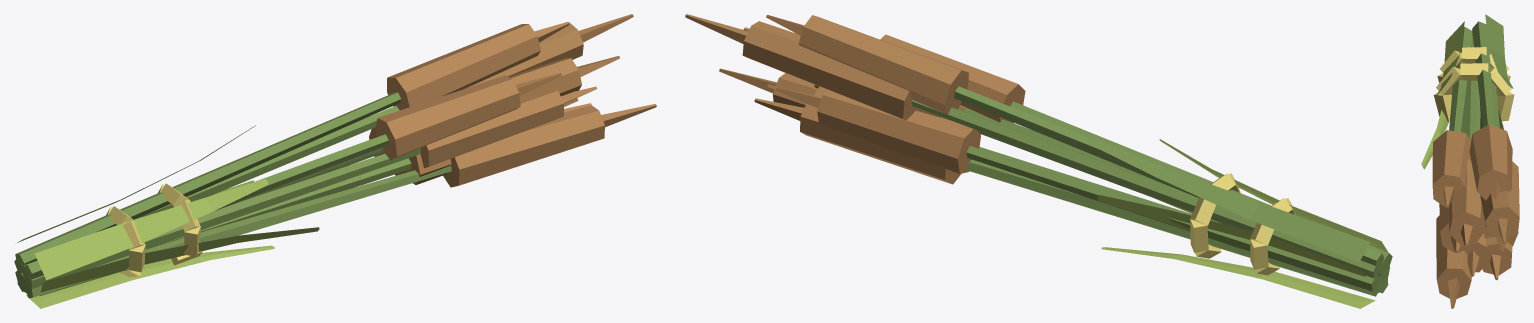
File: cattail_bundle.glb
3 renders of one model, left to right at view 1: azimuth 30°, elevation 25°; view 2: azimuth 150°, elevation 25°; view 3: azimuth 270°, elevation 25°, orthographic. The views are drawn at different scales.
Visible parts, largest first — view 1: cattail_bundle.001; view 2: cattail_bundle.001; view 3: cattail_bundle.001.
Boxes of the visible parts, box(x1,y1,x2,y2) form: cattail_bundle.001: box(14, 14, 656, 308); cattail_bundle.001: box(685, 14, 1392, 308); cattail_bundle.001: box(1421, 14, 1519, 308).
Size of the model in its own units: 0.8 by 0.1893 by 0.113.
